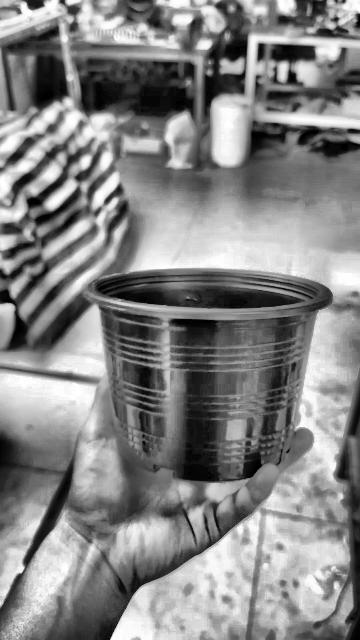pot: (83, 270, 331, 482)
